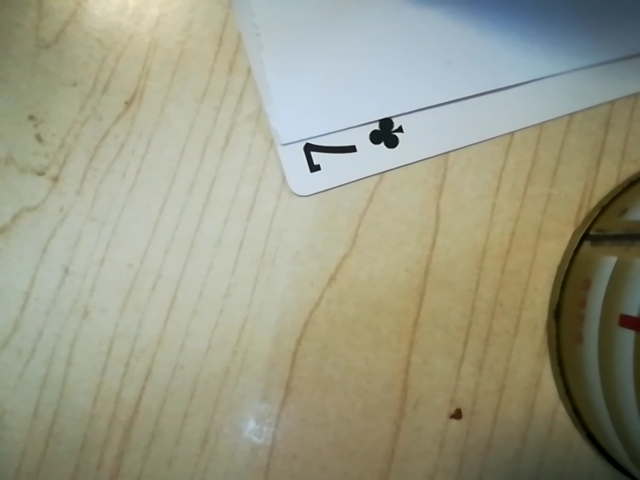mh 7: (292, 114, 419, 182)
